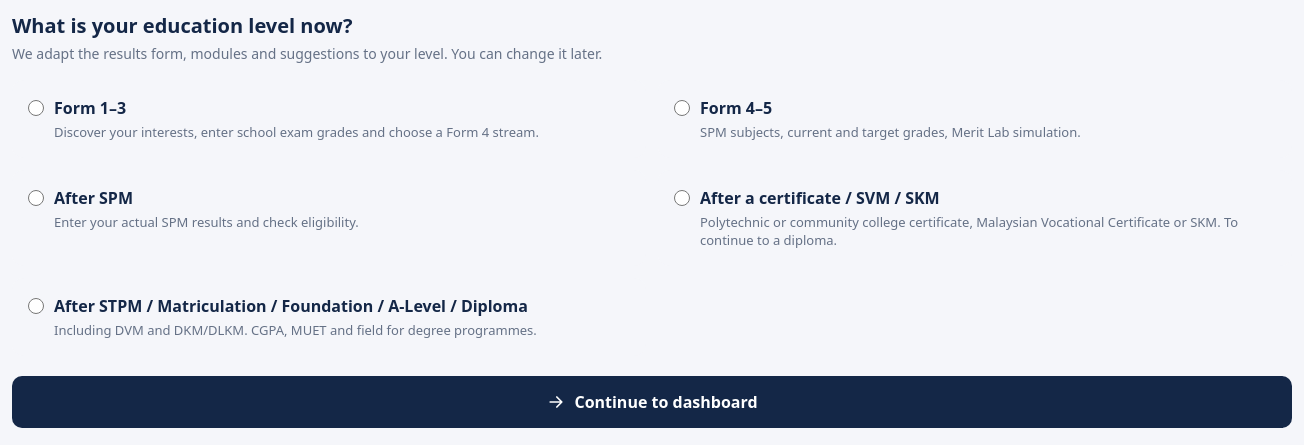
Test case: LevelPicker › needs no form for levels after school
What coordinates should you click on to do the following:
click the radio button labelled "After SPM"
I would click on:
 (36, 198)
Its box is [28,190,44,206].
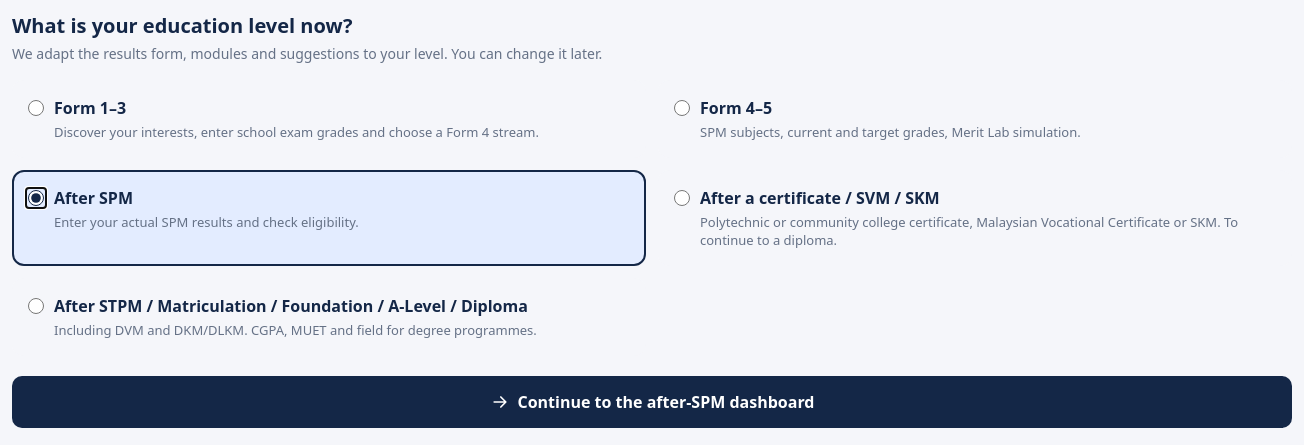
Expected: the button "Continue to the after-SPM dashboard" is shown, [12,376,1292,428]
